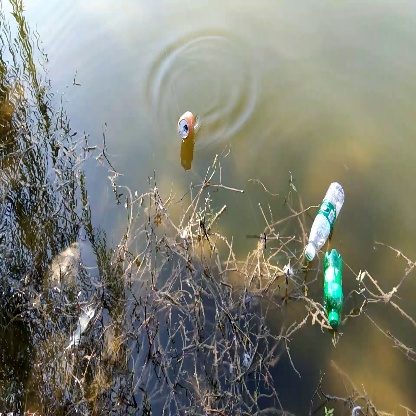bottle: (300, 174, 353, 260), (321, 252, 352, 330), (166, 100, 208, 145)
